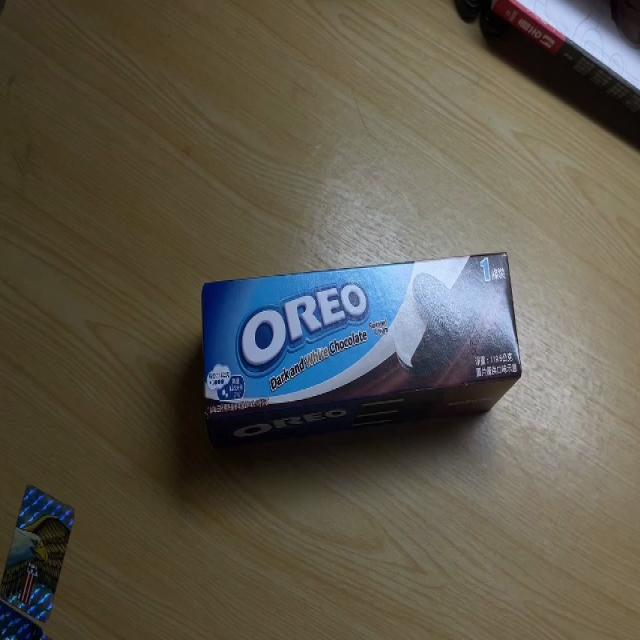Oreo: (200, 254, 524, 437)
